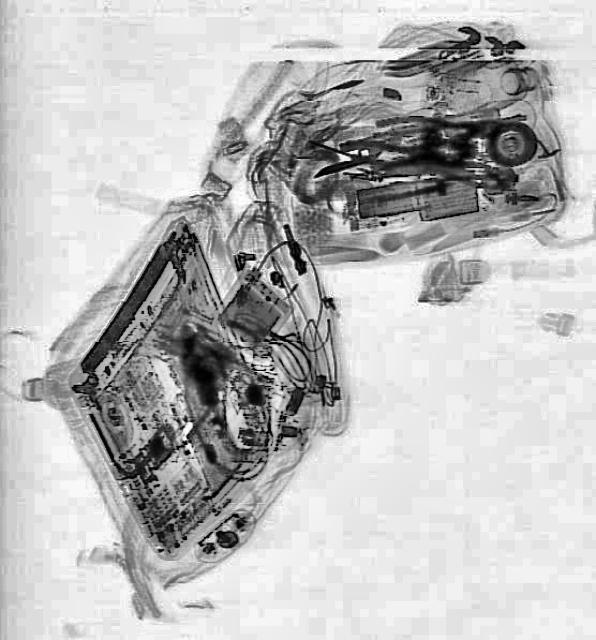Pliers: (369, 112, 459, 138)
